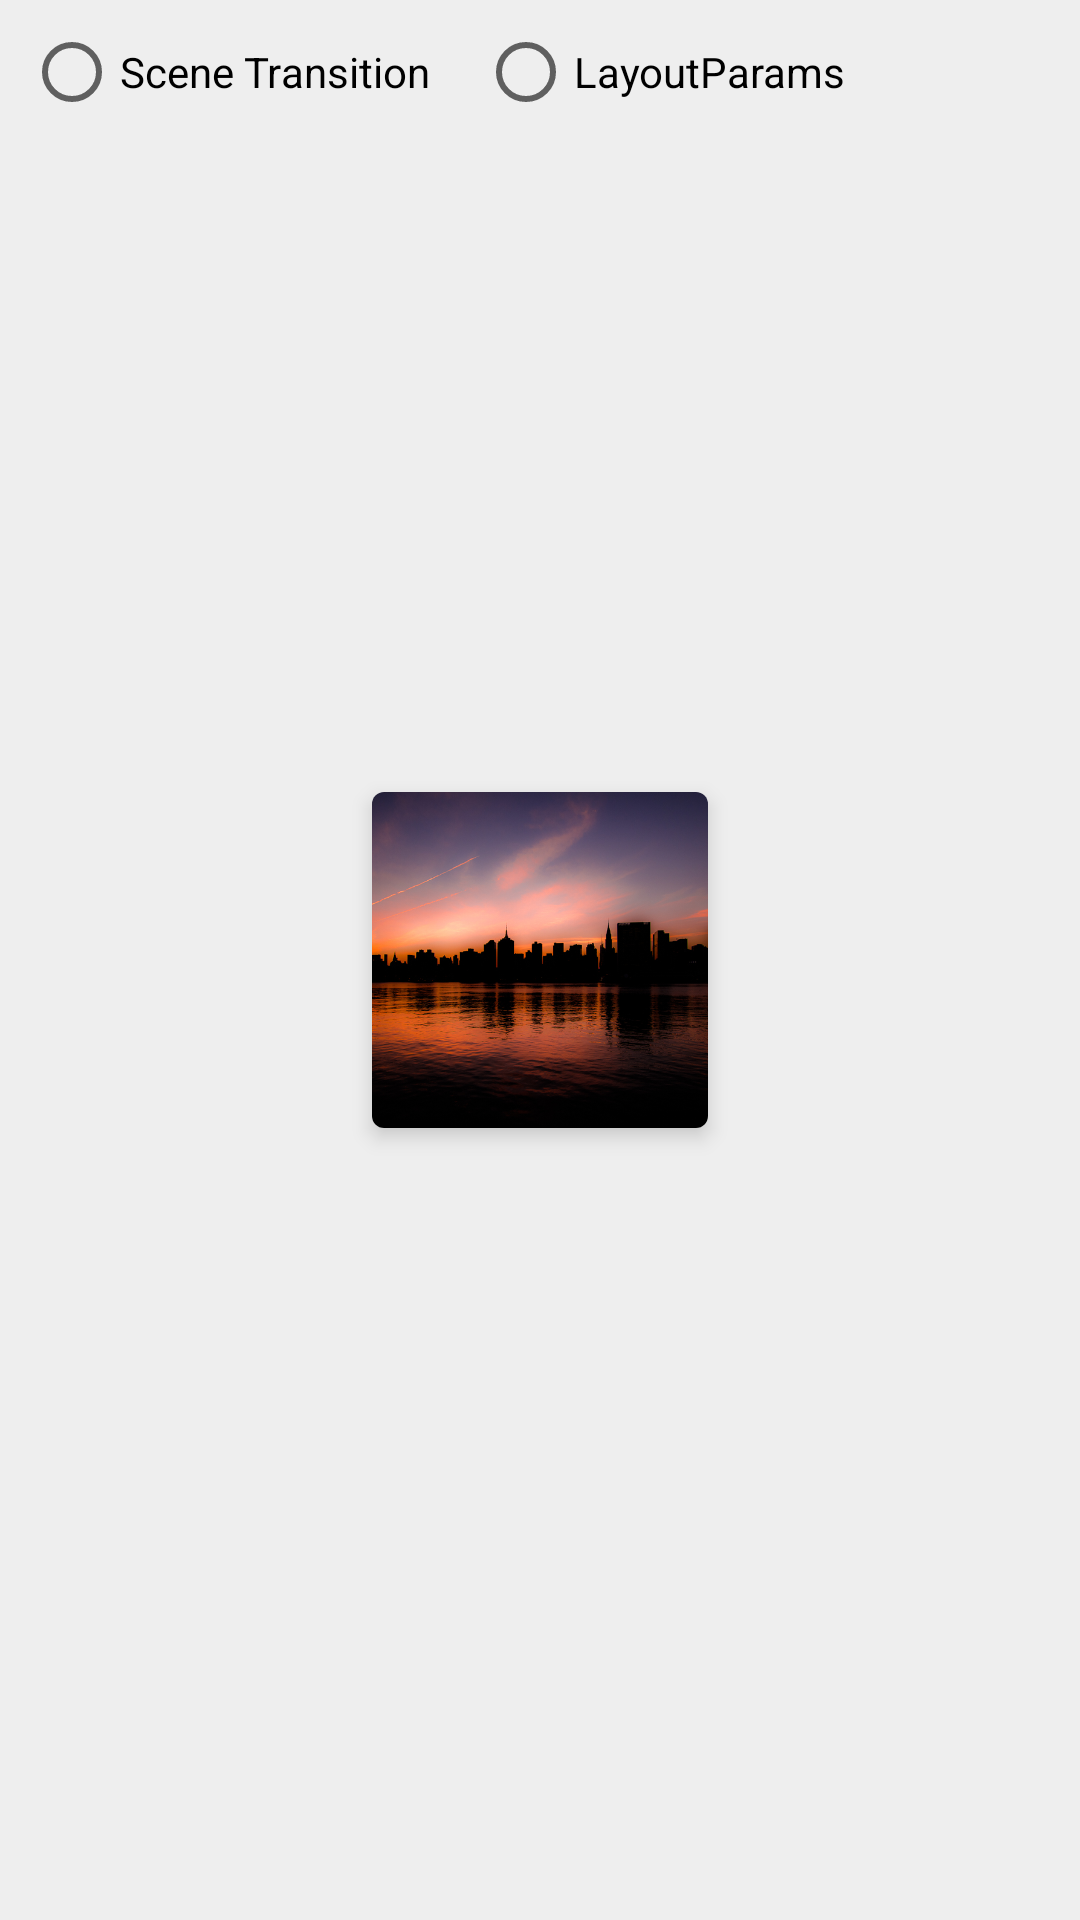

Icon click points for this 1080w x 1920h phone screenshot, format [x,y]:
ny skyline: [540,960]
